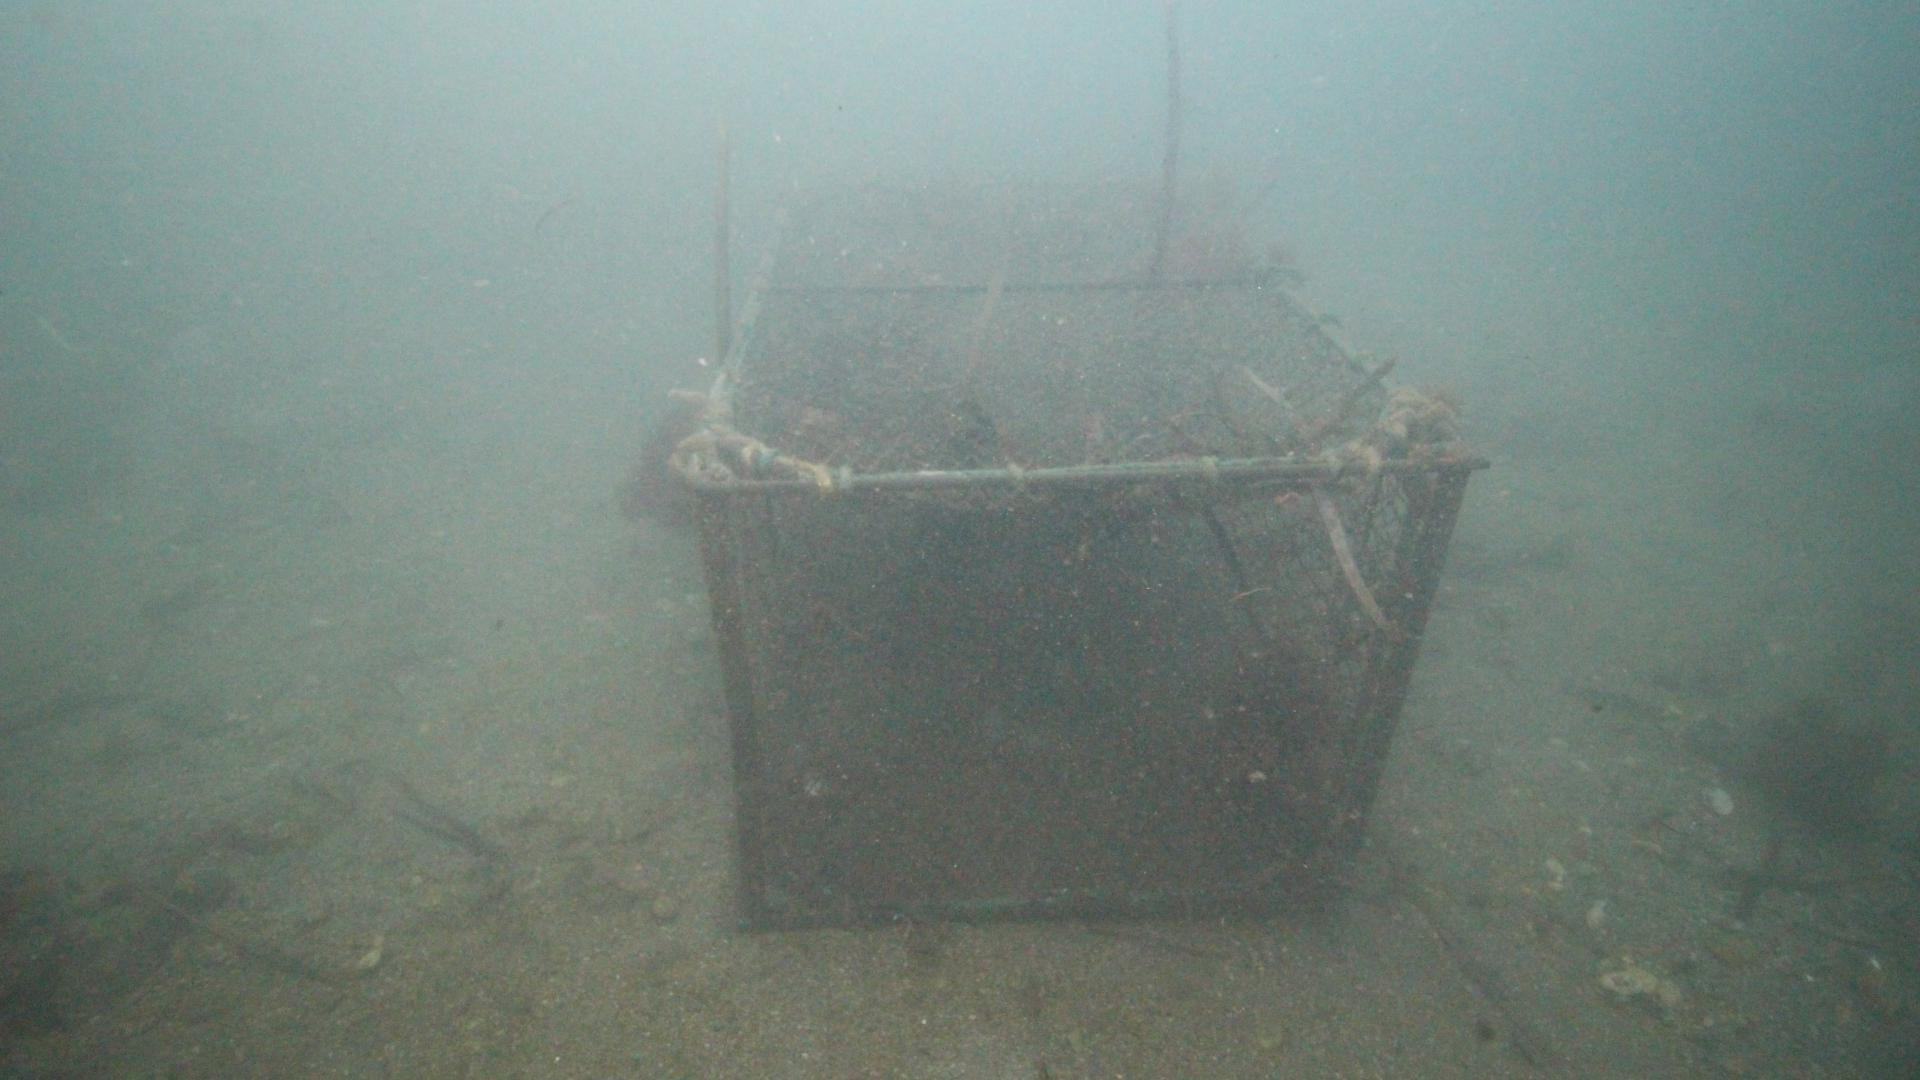rectangular fish trap: (673, 170, 1489, 938)
